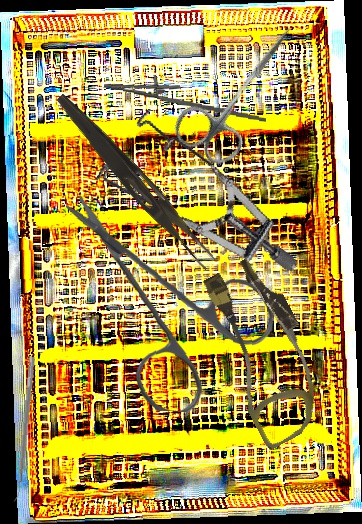Cannula: (184, 250, 345, 452)
Dressing Forceps: (47, 90, 223, 272)
Iris Scissors: (55, 195, 279, 417), (167, 4, 316, 174)
Needle Holder: (101, 69, 270, 124)
Spatula Surgical: (10, 355, 36, 503)
Speculum: (76, 78, 302, 328)
